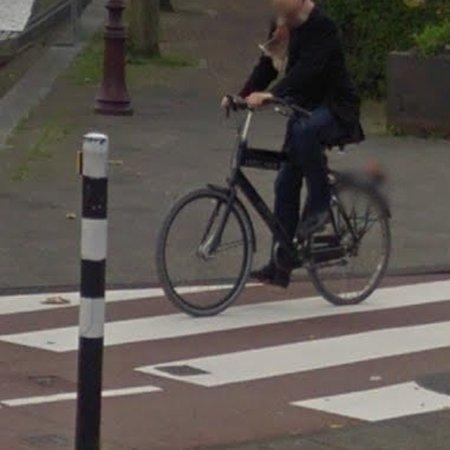crosswalks: (0, 279, 450, 425)
